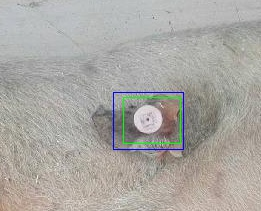text: (123, 97, 180, 143)
